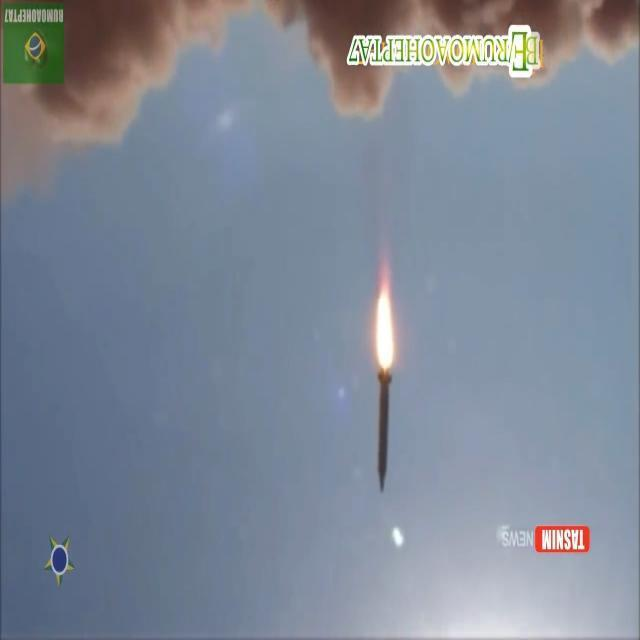Missile: (372, 347, 394, 505)
